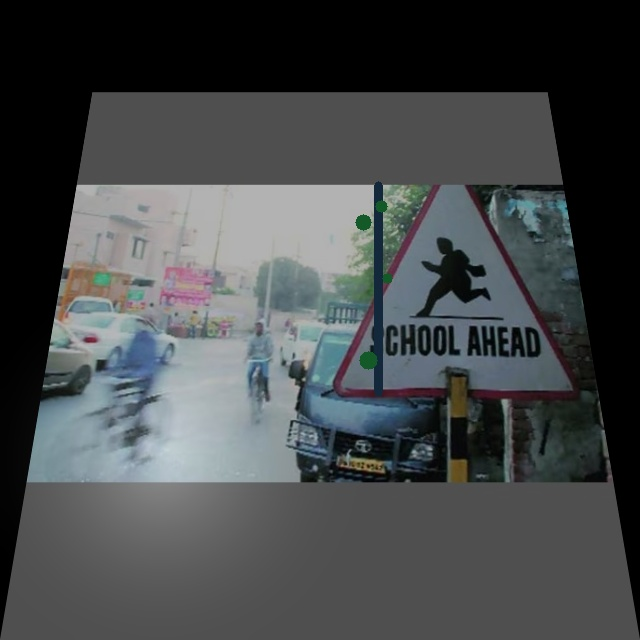School_Ahead: (353, 203, 562, 376)
